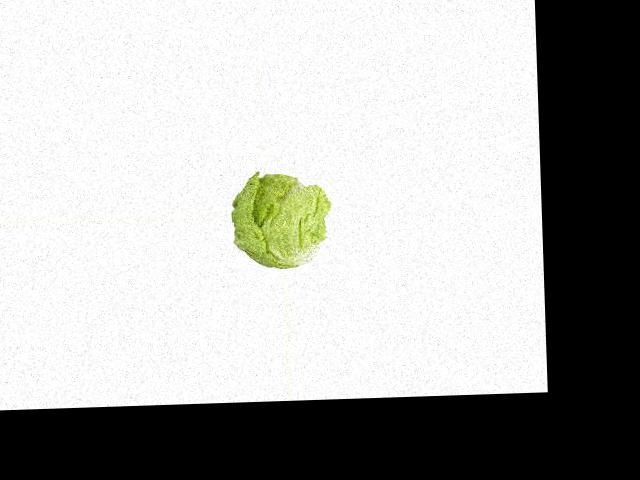lettuce: (230, 171, 329, 273)
